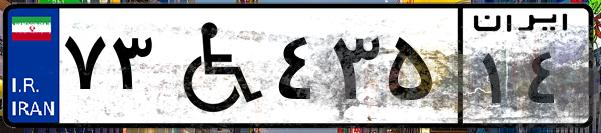1: (475, 38, 525, 113)
3: (330, 28, 385, 110), (110, 28, 158, 98)
4: (270, 28, 330, 110), (525, 38, 570, 115)
5: (385, 28, 445, 110)
7: (57, 26, 110, 100)
ژ (معلولین و جانبازان): (158, 12, 270, 120)
